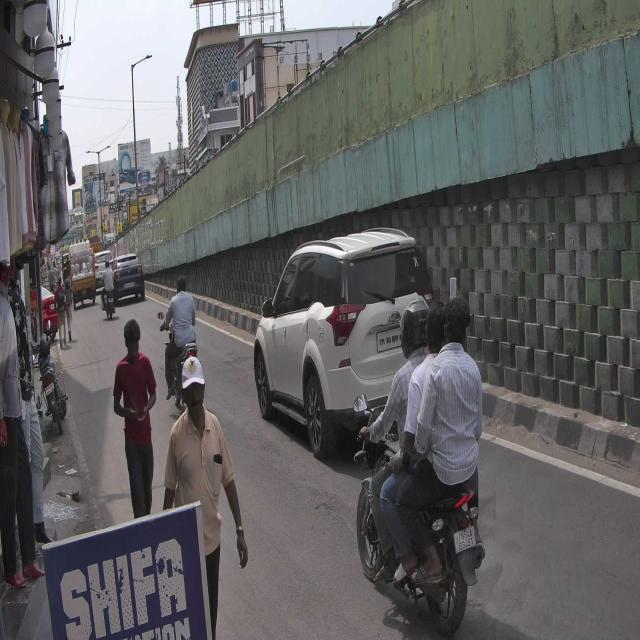triple_rider: (352, 292, 489, 640)
